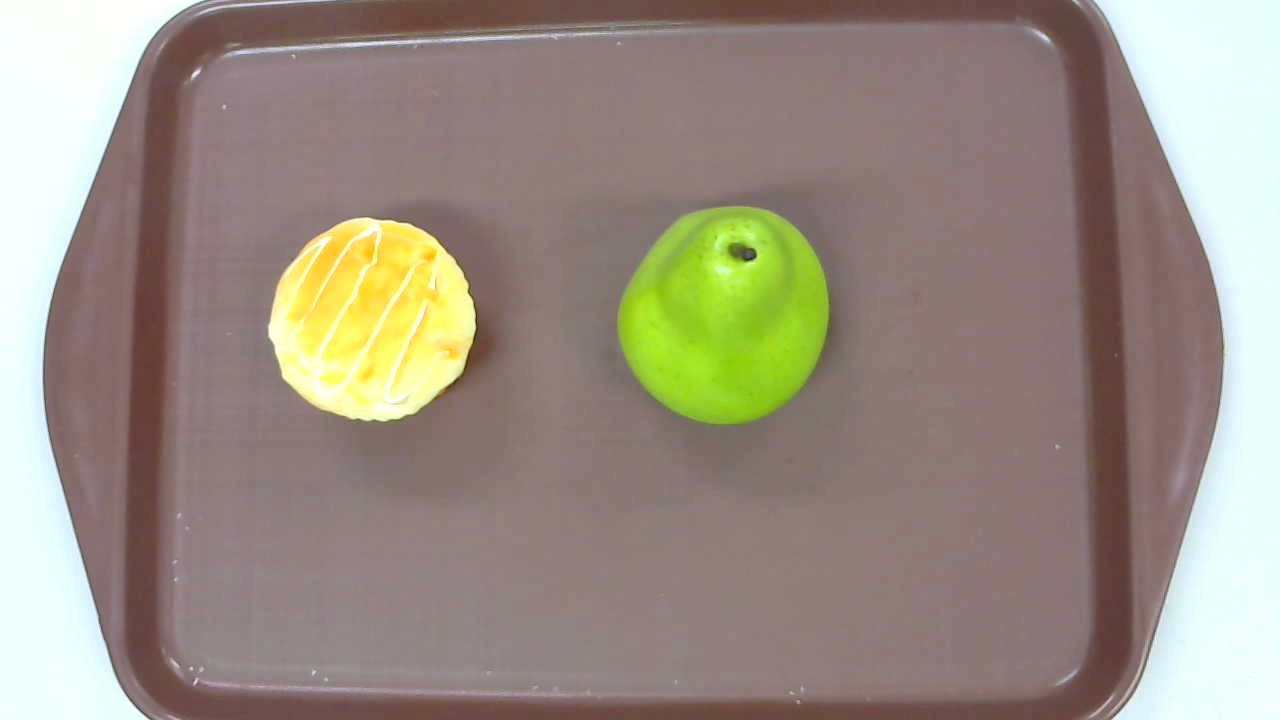cupcake: (266, 216, 475, 423)
green pear: (617, 205, 830, 423)
